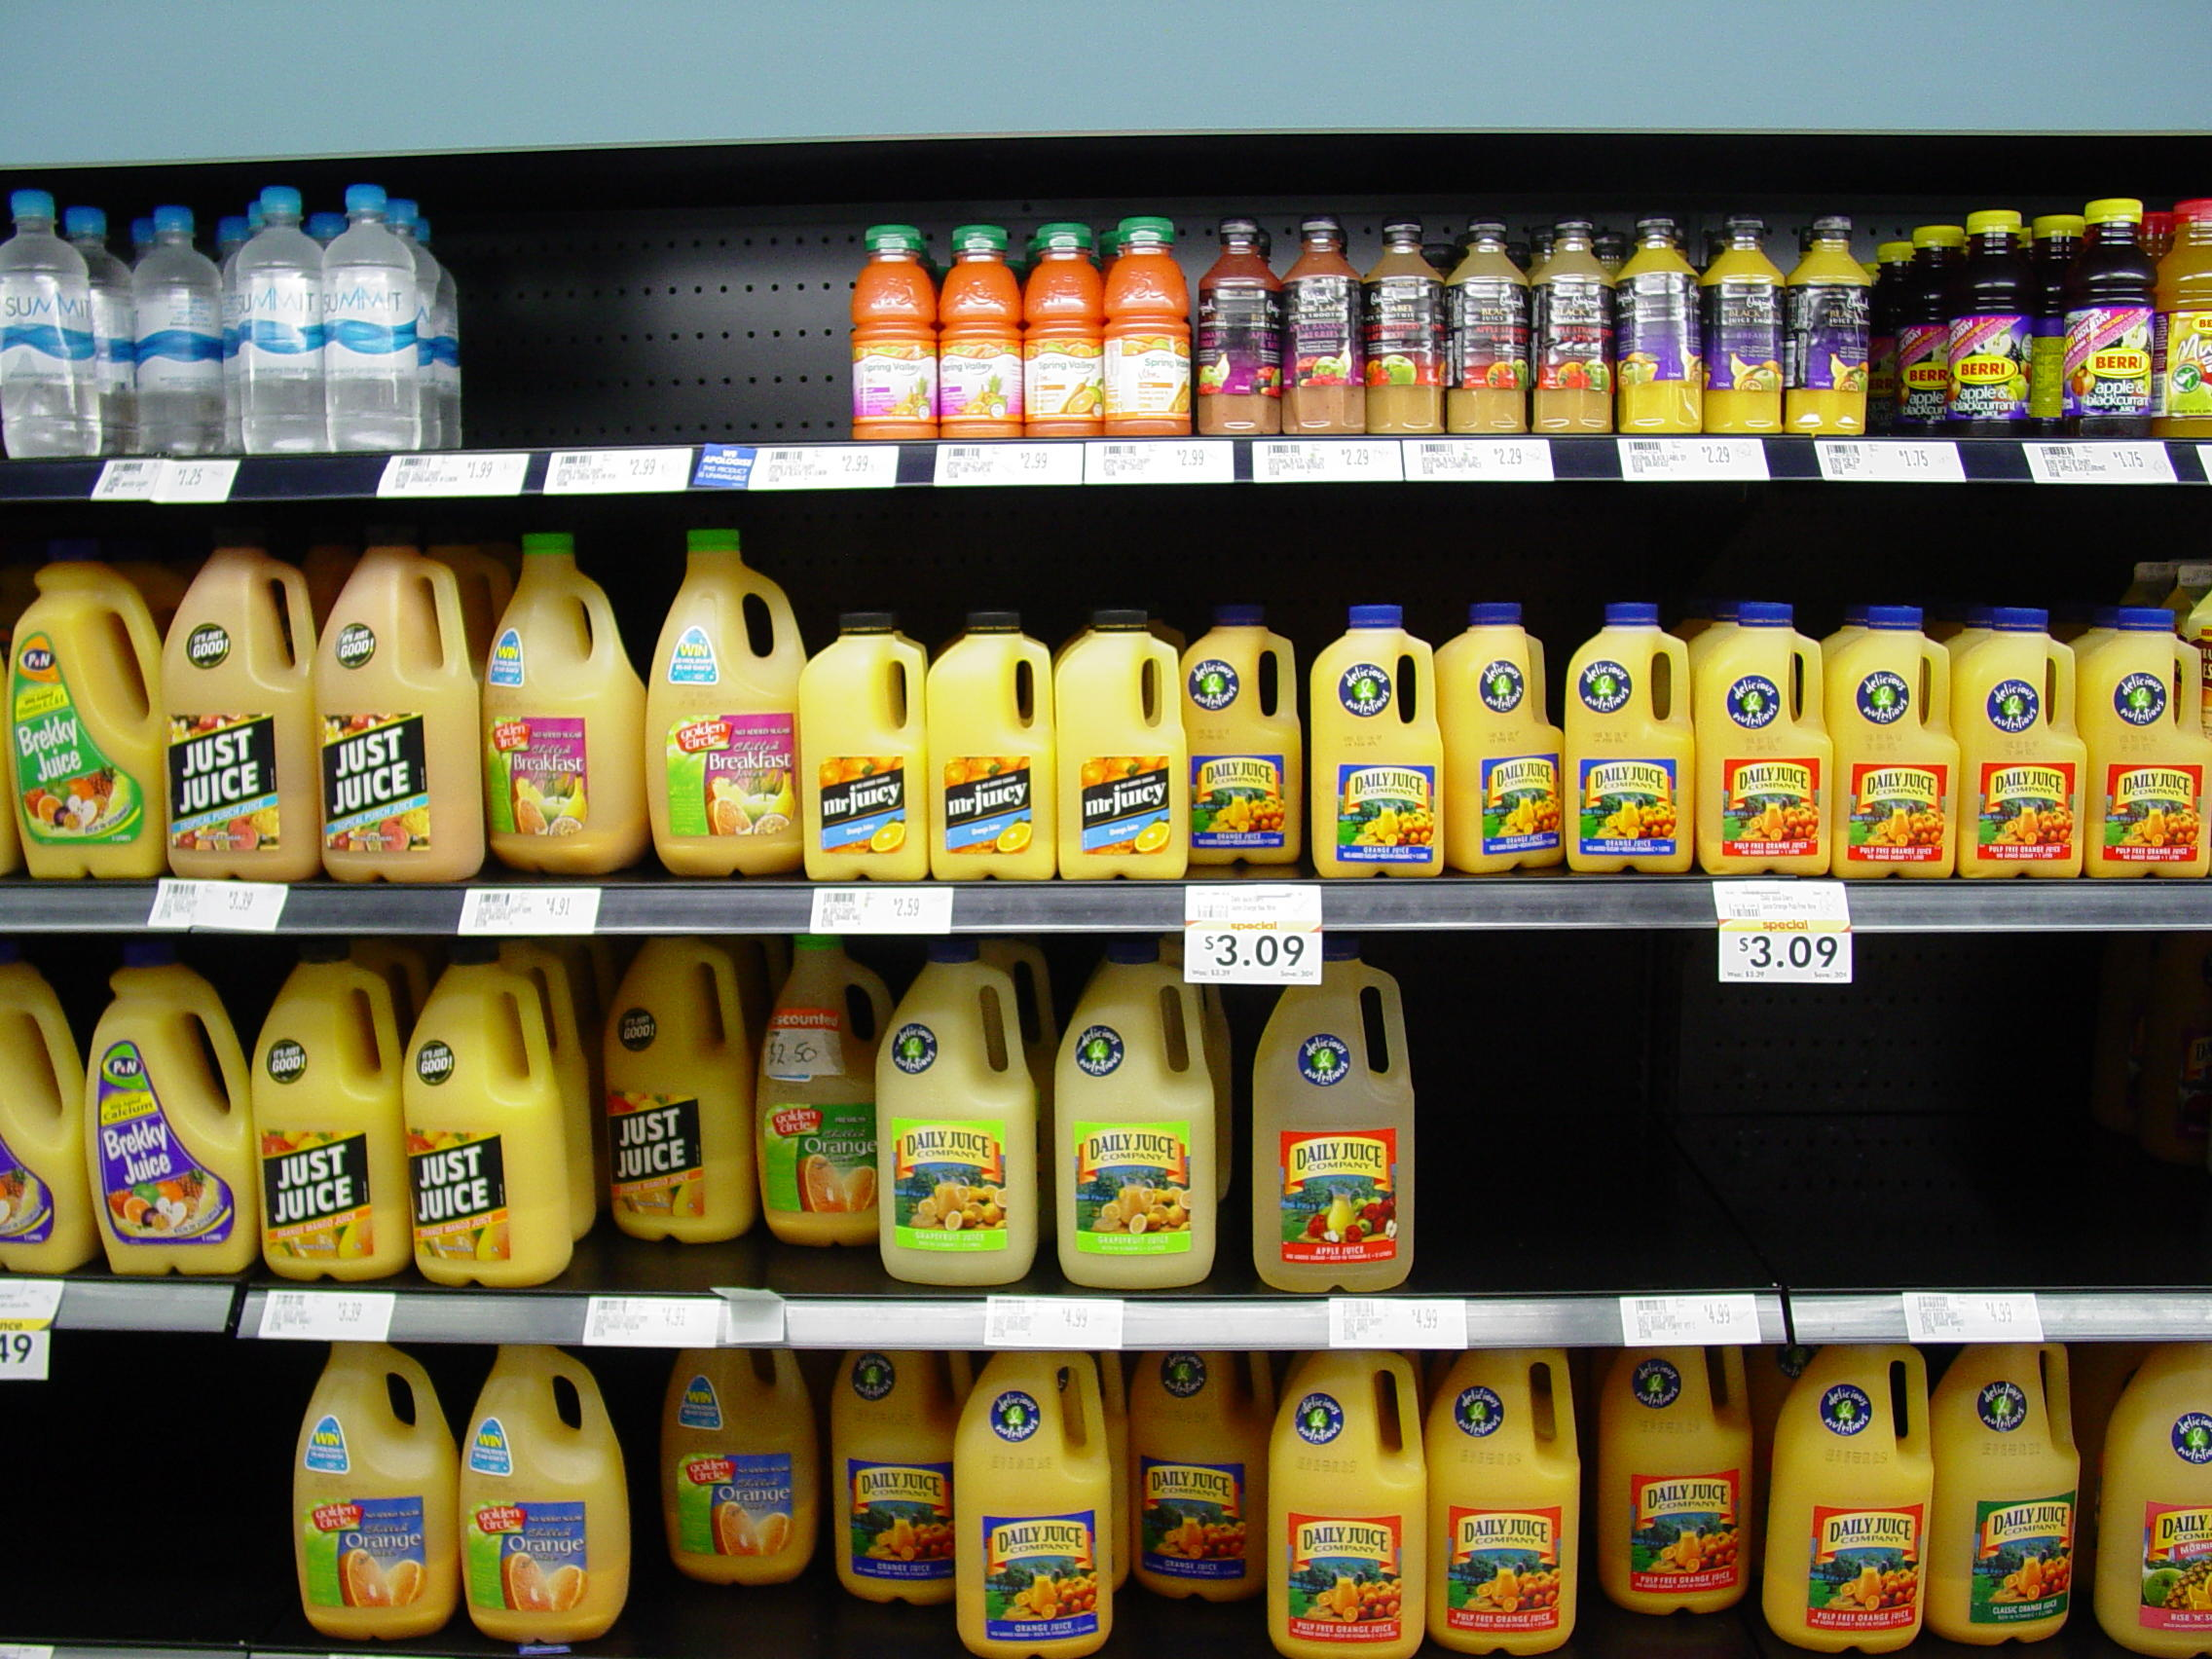Out-of-stock: (1416, 932, 2193, 1290), (449, 155, 852, 443), (19, 1333, 280, 1649)
